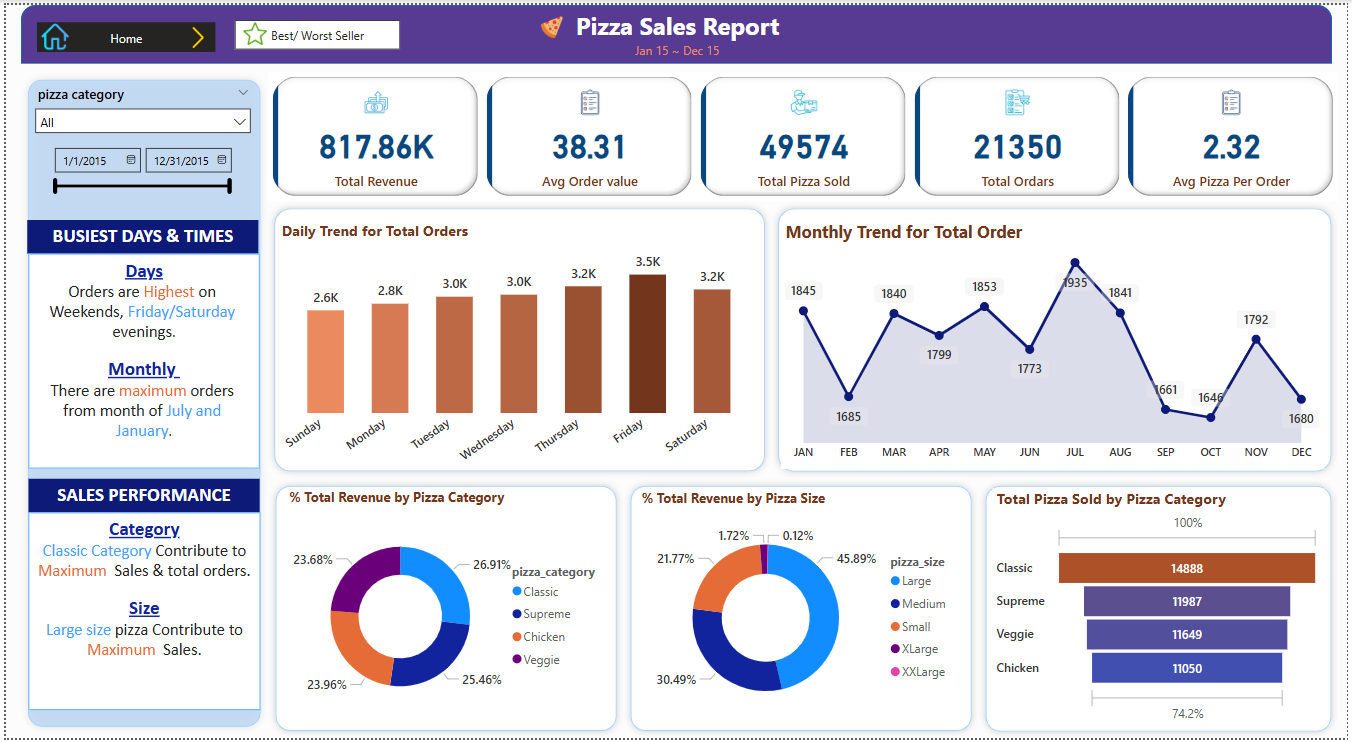

The page's visual inventory and layout, read from the dashboard file:
{"tool":"powerbi","page":{"name":"Home","canvas":[1500,820],"ordinal":0},"visuals":[{"type":"shape","box":[16.4,75.7,275.7,739.3],"z":0},{"type":"cardVisual","fields":{"Data":["Pizza_Sales.Total Revenue","Pizza_Sales.Avg Order value","Pizza_Sales.Total Pizza Sold","Pizza_Sales.Total Ordars","Pizza_Sales.Avg Pizza/Order"]},"box":[293.5,75.5,1196.2,143.9],"z":1000},{"type":"shape","box":[17.1,0,1465.7,65.7],"z":2000},{"type":"textbox","box":[690,35.7,120,30],"z":3000},{"type":"textbox","box":[610,0,280,48.6],"z":4000},{"type":"image","box":[592.9,4.3,35.7,41.4],"z":5000},{"type":"shape","box":[292,220,564.3,310],"z":6000},{"type":"columnChart","title":"Daily Trend for Total Orders","fields":{"Y":["Pizza_Sales.Total Ordars"],"Category":["Date.Day Name"]},"box":[303.4,240,542.9,290],"z":7000},{"type":"shape","box":[855.2,219.4,634.4,310.2],"z":8000},{"type":"areaChart","title":"Monthly Trend for Total Order","fields":{"Category":["Date.Order Month"],"Y":["Pizza_Sales.Total Ordars"]},"box":[865.7,240,607.1,278.6],"z":9000},{"type":"shape","box":[292.9,530,397.1,290],"z":10000},{"type":"shape","box":[690,530,397.1,290],"z":11000},{"type":"shape","box":[1087.2,529.6,402.5,290.7],"z":12000},{"type":"donutChart","title":"% Total Revenue by Pizza Category","fields":{"Category":["Pizza_Menu.pizza_category"],"Y":["Pizza_Sales.Total Revenue"]},"box":[311.1,540,367.8,268.9],"z":13000},{"type":"textbox","box":[24.4,240.2,258.6,37.9],"z":14000},{"type":"donutChart","title":"% Total Revenue by Pizza Size","fields":{"Y":["Pizza_Sales.Total Revenue"],"Category":["Pizza_Menu.pizza_size"]},"box":[705.6,541.1,367.8,268.9],"z":15000},{"type":"funnel","title":"Total Pizza Sold by  Pizza Category","fields":{"Category":["Pizza_Menu.pizza_category"],"Y":["Pizza_Sales.Total Pizza Sold"]},"box":[1102.5,541.2,371.2,267.5],"z":16000},{"type":"textbox","box":[25.2,278.1,258.5,240.4],"z":17000},{"type":"textbox","box":[25,529.3,258.6,37.9],"z":18000},{"type":"textbox","box":[25.7,567.1,259.3,220.7],"z":19000},{"type":"slicer","fields":{"Values":["Pizza_Menu.pizza_category"]},"box":[22.4,83.8,261.3,65.7],"z":20000},{"type":"slicer","fields":{"Values":["Date.Date"]},"box":[41.9,149.5,223.6,65.7],"z":21000},{"type":"pageNavigator","box":[34.9,19.6,199.8,33.5],"z":22000},{"type":"pageNavigator","box":[255.7,16.8,185.9,33.5],"z":23000},{"type":"image","box":[195.6,19.6,39.1,33.5],"z":24000},{"type":"image","box":[34.9,15.4,40.5,40.5],"z":25000},{"type":"image","box":[255.7,14,46.1,36.3],"z":26000}]}

Visuals, with their boxes on the page's 1500x820 design canvas (x1, y1, x2, y2). These are canvas units, not pixel positions in the 1352x742 screenshot, which may show the page scaled, cropped or inside an application window:
shape: {"left": 16, "top": 76, "right": 292, "bottom": 815}
cardVisual - Pizza_Sales.Total Revenue x Pizza_Sales.Avg Order value: {"left": 294, "top": 76, "right": 1490, "bottom": 219}
shape: {"left": 17, "top": 0, "right": 1483, "bottom": 66}
textbox: {"left": 690, "top": 36, "right": 810, "bottom": 66}
textbox: {"left": 610, "top": 0, "right": 890, "bottom": 49}
image: {"left": 593, "top": 4, "right": 629, "bottom": 46}
shape: {"left": 292, "top": 220, "right": 856, "bottom": 530}
"Daily Trend for Total Orders" columnChart: {"left": 303, "top": 240, "right": 846, "bottom": 530}
shape: {"left": 855, "top": 219, "right": 1490, "bottom": 530}
"Monthly Trend for Total Order" areaChart: {"left": 866, "top": 240, "right": 1473, "bottom": 519}
shape: {"left": 293, "top": 530, "right": 690, "bottom": 820}
shape: {"left": 690, "top": 530, "right": 1087, "bottom": 820}
shape: {"left": 1087, "top": 530, "right": 1490, "bottom": 820}
"% Total Revenue by Pizza Category" donutChart: {"left": 311, "top": 540, "right": 679, "bottom": 809}
textbox: {"left": 24, "top": 240, "right": 283, "bottom": 278}
"% Total Revenue by Pizza Size" donutChart: {"left": 706, "top": 541, "right": 1073, "bottom": 810}
"Total Pizza Sold by  Pizza Category" funnel: {"left": 1102, "top": 541, "right": 1474, "bottom": 809}
textbox: {"left": 25, "top": 278, "right": 284, "bottom": 518}
textbox: {"left": 25, "top": 529, "right": 284, "bottom": 567}
textbox: {"left": 26, "top": 567, "right": 285, "bottom": 788}
slicer - Pizza_Menu.pizza_category: {"left": 22, "top": 84, "right": 284, "bottom": 150}
slicer - Date.Date: {"left": 42, "top": 150, "right": 266, "bottom": 215}
pageNavigator: {"left": 35, "top": 20, "right": 235, "bottom": 53}
pageNavigator: {"left": 256, "top": 17, "right": 442, "bottom": 50}
image: {"left": 196, "top": 20, "right": 235, "bottom": 53}
image: {"left": 35, "top": 15, "right": 75, "bottom": 56}
image: {"left": 256, "top": 14, "right": 302, "bottom": 50}
